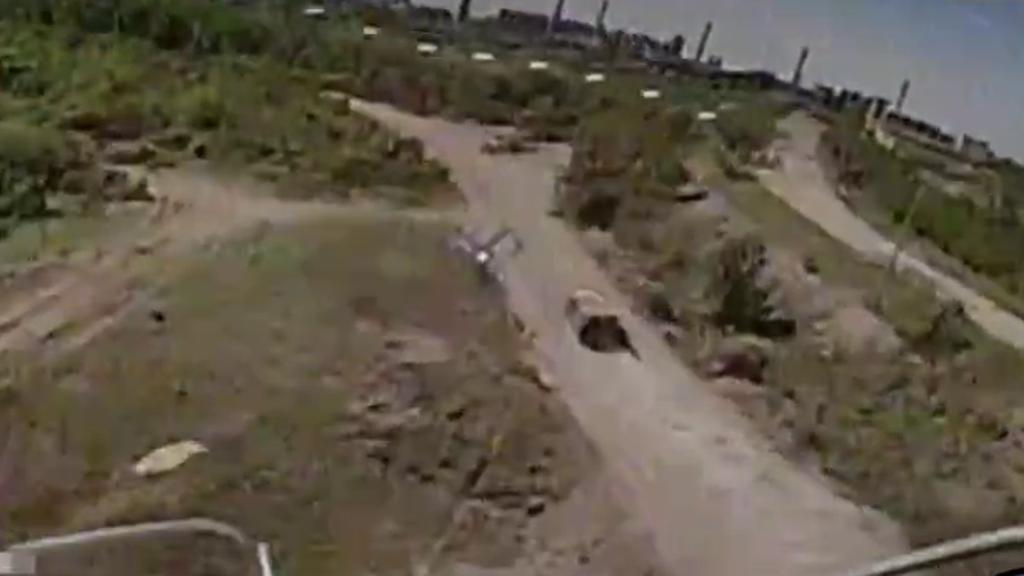CAR: (561, 283, 618, 349), (477, 129, 525, 156)
